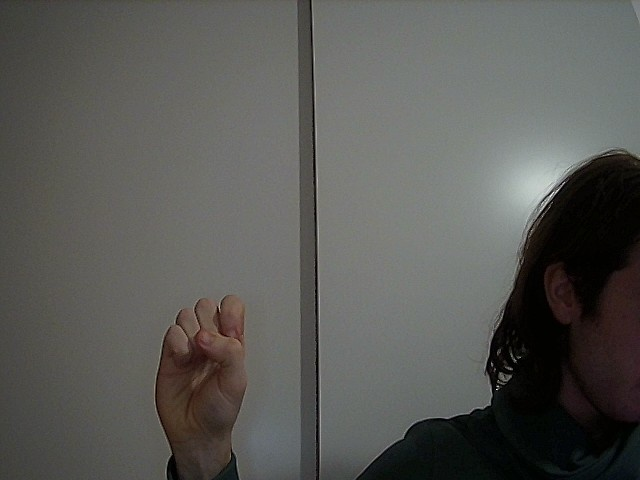s: (136, 274, 274, 440)
